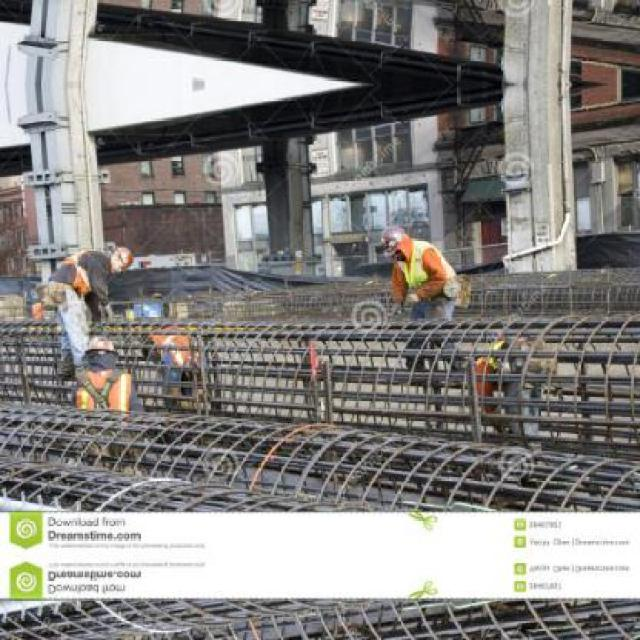helmet: (81, 329, 122, 369), (378, 221, 412, 259), (98, 242, 136, 272)
